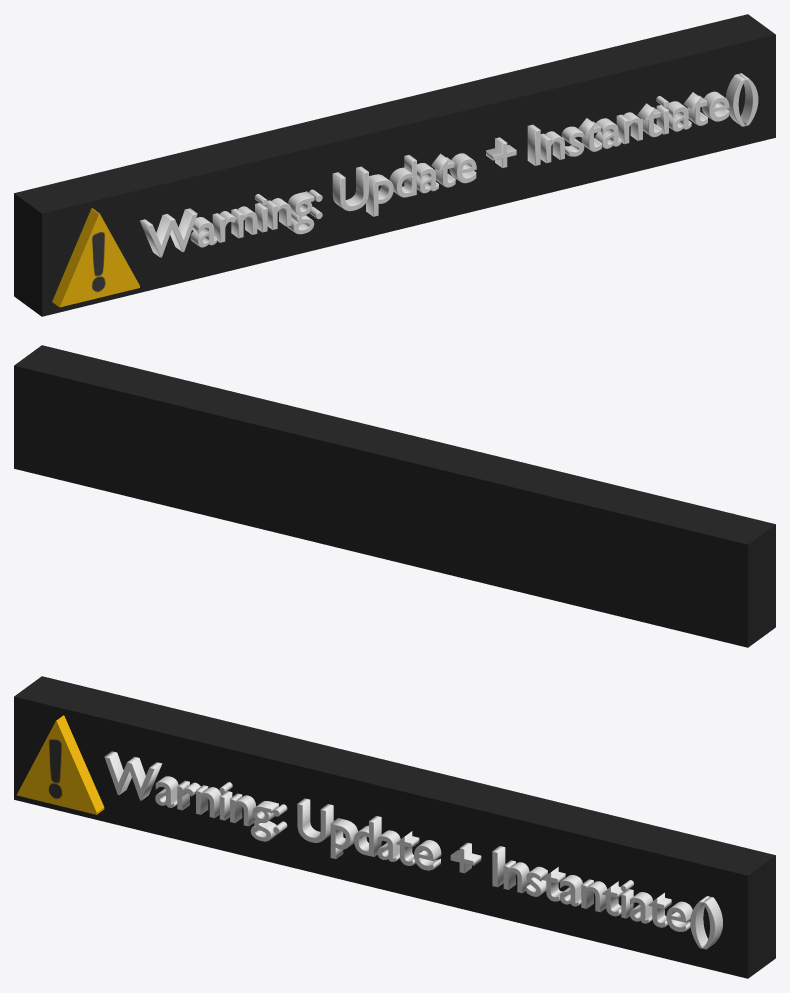
Rendered from Warning_ Update + Instantiate()1.fbx.
3 views of the same model, one above another, from view 1: azimuth 30°, elevation 25°; view 2: azimuth 150°, elevation 25°; view 3: azimuth 330°, elevation 25° (orthographic).
Visible parts, largest first — view 1: no2, Warning: Update + Instantiate(); view 2: no2; view 3: no2, Warning: Update + Instantiate().
Part boxes in pixels (x1=…): no2: x1=14, y1=14, x2=775, y2=316; Warning: Update + Instantiate(): x1=140, y1=73, x2=758, y2=257; no2: x1=14, y1=345, x2=775, y2=647; no2: x1=14, y1=676, x2=775, y2=978; Warning: Update + Instantiate(): x1=104, y1=751, x2=722, y2=949.
Size of the model in its own units: 2942 by 395 by 247.
